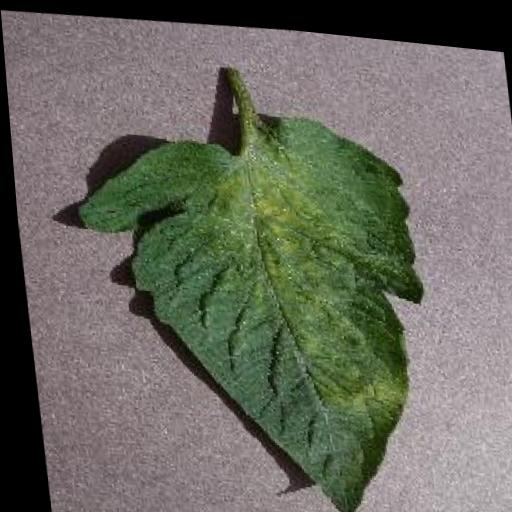Spider Mites: (61, 84, 441, 512)
